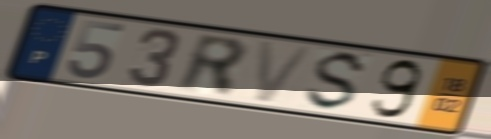3: (126, 26, 185, 91)
5: (65, 18, 129, 81)
9: (369, 58, 424, 120)
R: (175, 31, 251, 100)
S: (301, 49, 371, 113)
V: (254, 38, 318, 105)
